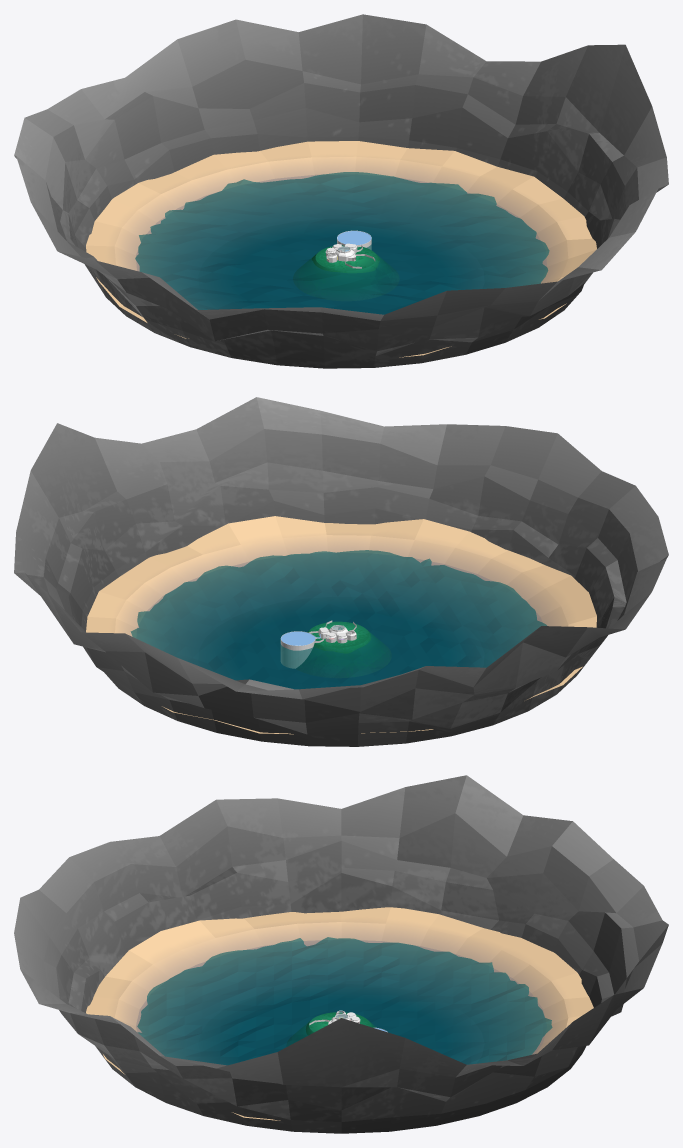
File: meeting-hall-3.glb
The picture shows the model from 3 angles, top to bottom: view 1: azimuth 30°, elevation 25°; view 2: azimuth 150°, elevation 25°; view 3: azimuth 270°, elevation 25°; orthographic projection.
Visible parts, largest first — view 1: mountains, beach, water, Platform_building; view 2: mountains, beach, water, Platform_building, architecture_platform, Building; view 3: mountains, beach, water, Platform_building.
Boxes of the visible parts, x1=… form: mountains: x1=14, y1=14, x2=668, y2=368; beach: x1=86, y1=141, x2=596, y2=357; water: x1=135, y1=172, x2=549, y2=314; Platform_building: x1=293, y1=245, x2=399, y2=300; mountains: x1=14, y1=397, x2=668, y2=746; beach: x1=86, y1=516, x2=596, y2=734; water: x1=131, y1=550, x2=546, y2=689; Platform_building: x1=296, y1=621, x2=391, y2=677; architecture_platform: x1=280, y1=631, x2=315, y2=668; Building: x1=314, y1=625, x2=356, y2=643; mountains: x1=14, y1=775, x2=668, y2=1133; beach: x1=86, y1=907, x2=593, y2=1120; water: x1=137, y1=937, x2=552, y2=1065; Platform_building: x1=286, y1=1012, x2=376, y2=1046.
Bounding box in the file's own units: 631 × 183 × 631.
16 materials, 10 textured.
